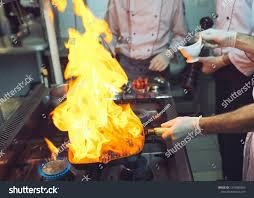fire: (49, 2, 147, 160)
